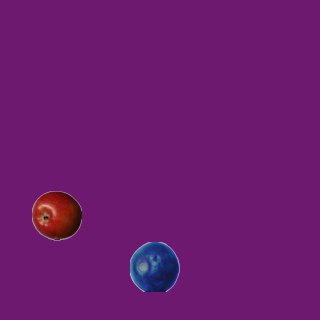Apple Braeburn: (31, 190, 81, 240)
Huckleberry: (129, 241, 179, 291)
